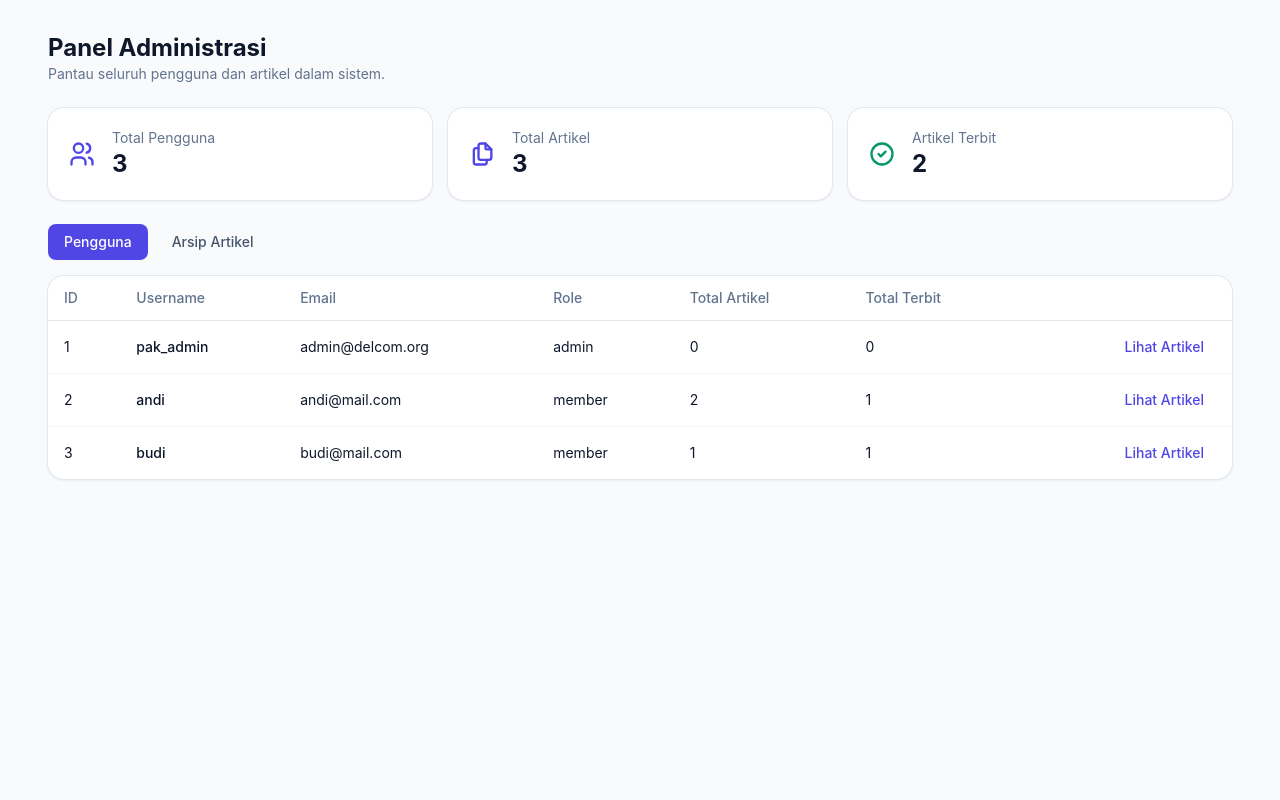
AdminDashboard artikel per pengguna › menampilkan pesan jika pengguna belum punya artikel
The width and height of the screenshot is (1280, 800).
Expected: the text "pak_admin" is shown, [120, 320, 284, 374]
Click the button with aria-label "Lihat artikel pak_admin": (1164, 347) [1112, 333, 1216, 361]
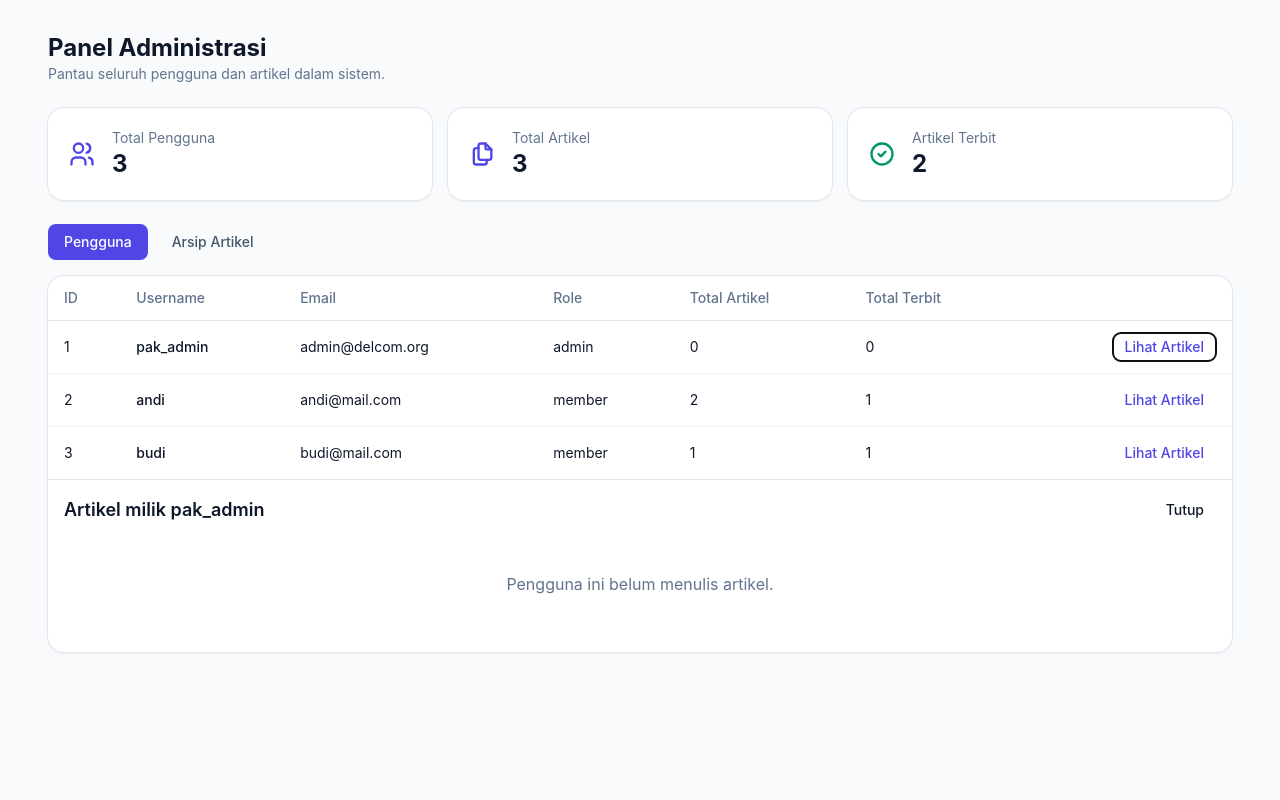
Now the text "Pengguna ini belum menulis artikel." is shown, box [506, 574, 774, 594]
